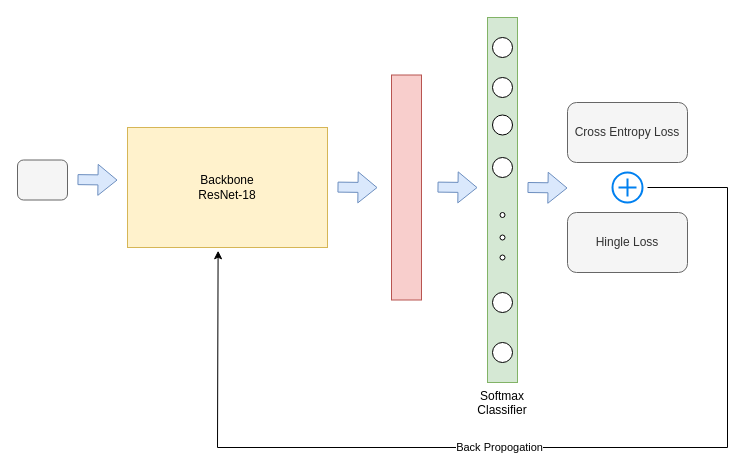
The diagram is 753 pixels wide and 473 high, and some of its shapes have lost their labels. The centre of each missing label's shape, as x and y in pixels:
"Feature Vector" goes at point 406,187.
"Image" goes at point 42,179.
